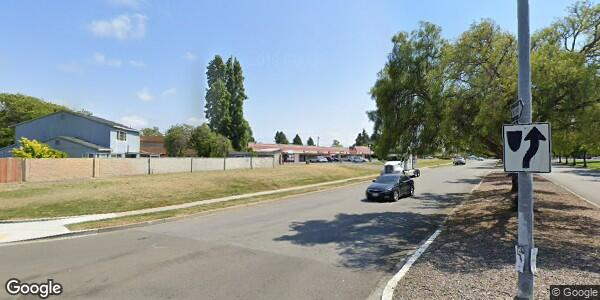Steel_Pole: (499, 1, 552, 300)
